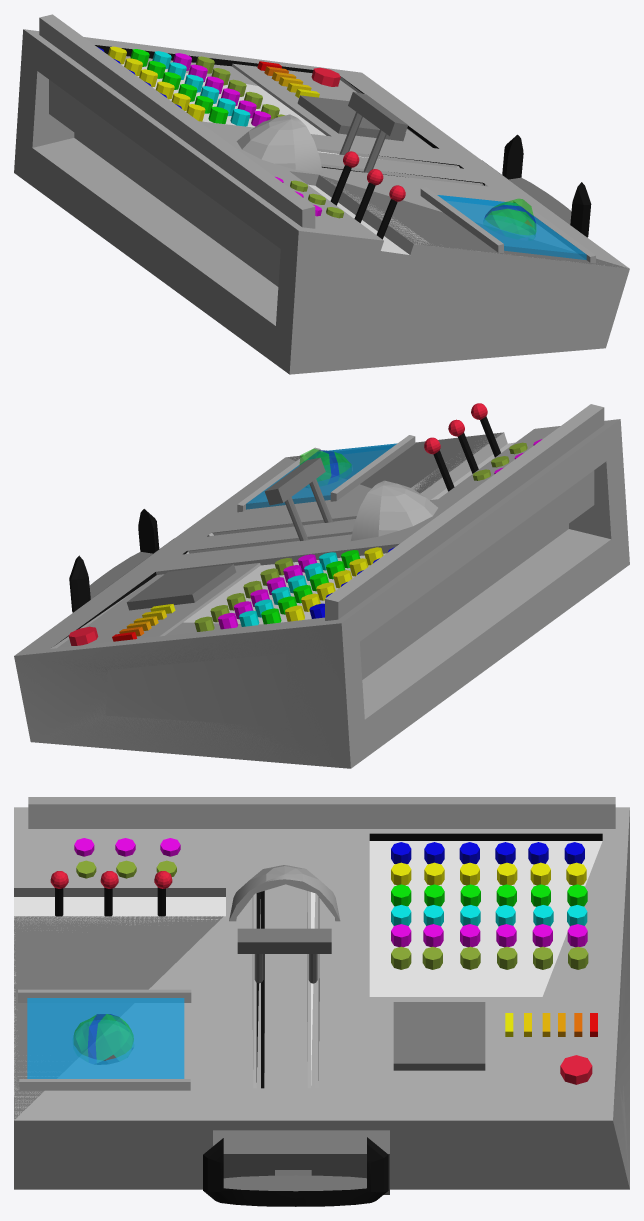
The model's file is Steuerkonsole.fbx.
3 renders of one model, top to bottom at view 1: azimuth 30°, elevation 25°; view 2: azimuth 150°, elevation 25°; view 3: azimuth 270°, elevation 25°, orthographic. The views are drawn at different scales.
Visible parts, largest first — view 1: group8_pasted__pCylinder2; view 2: group8_pasted__pCylinder2; view 3: group8_pasted__pCylinder2.
Boxes of the visible parts, x1=… form: group8_pasted__pCylinder2: x1=14, y1=14, x2=629, y2=374; group8_pasted__pCylinder2: x1=14, y1=403, x2=629, y2=768; group8_pasted__pCylinder2: x1=14, y1=797, x2=629, y2=1206.
Bounding box in the file's own units: 2.18 × 1.09 × 2.64.
